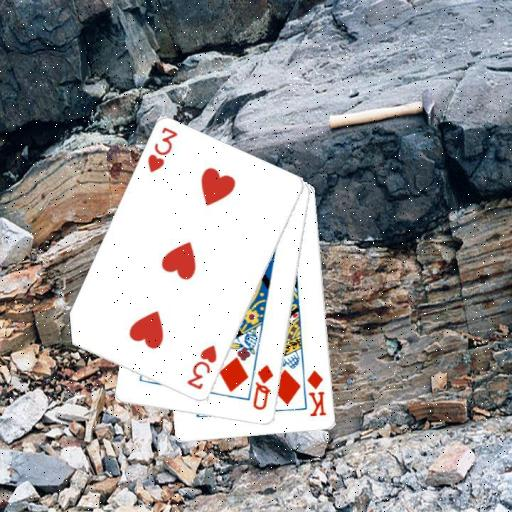3H: (183, 342, 219, 392), (145, 125, 180, 175)
KD: (304, 367, 328, 419)
QD: (250, 362, 276, 412)
